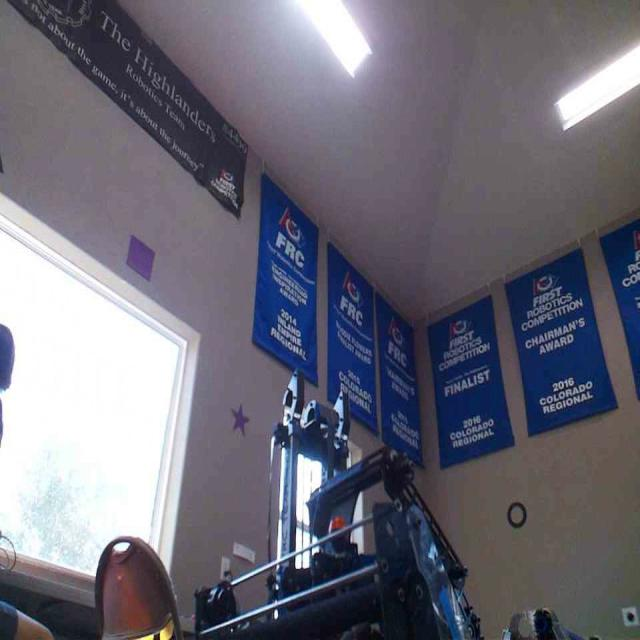ring_black: (505, 500, 526, 526)
square_purple: (124, 235, 154, 279)
star_purple: (230, 400, 248, 437)
